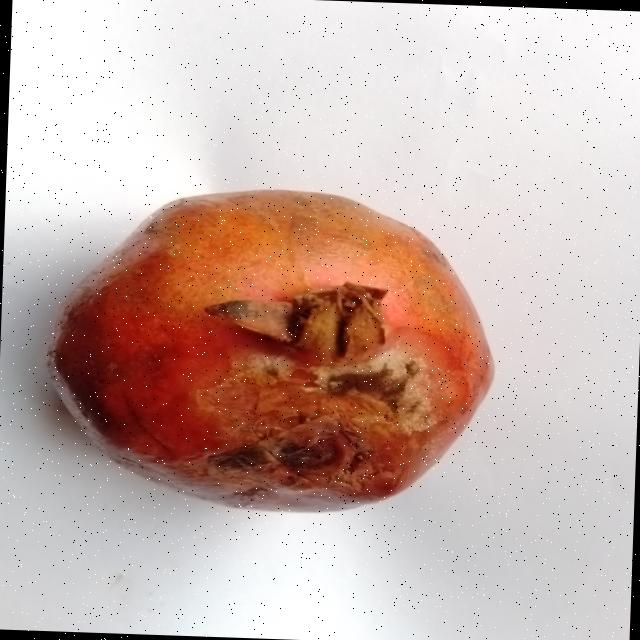Rotten: (39, 174, 504, 522)
